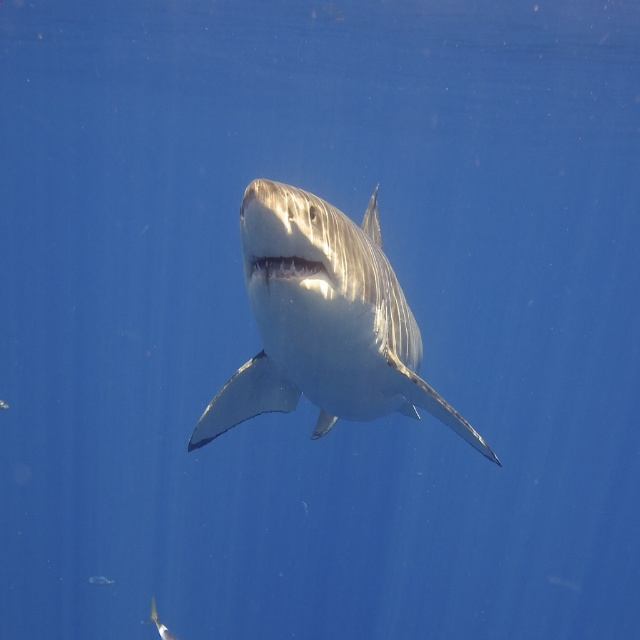Shark: (190, 173, 505, 467)
